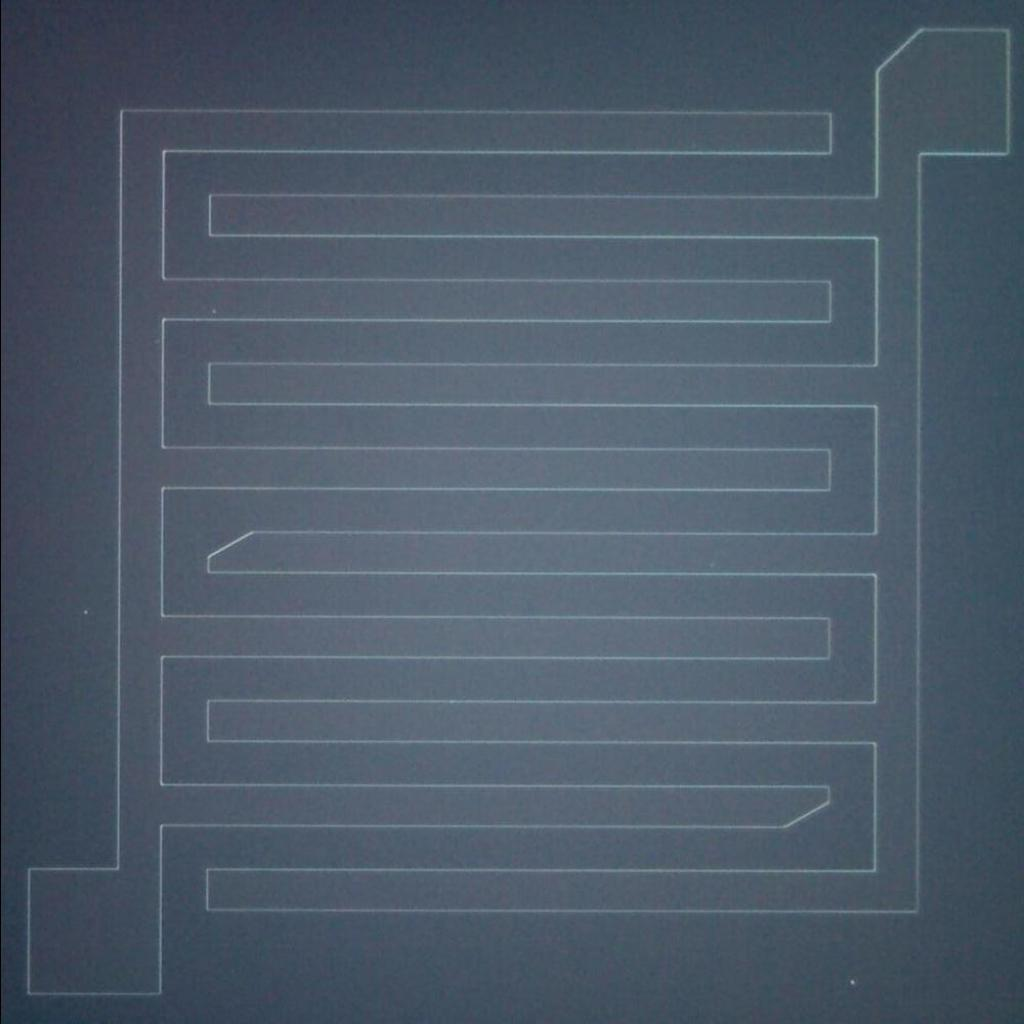dot: (840, 973, 861, 992)
edge circuit: (858, 17, 934, 84), (187, 521, 268, 579), (771, 778, 844, 838)
